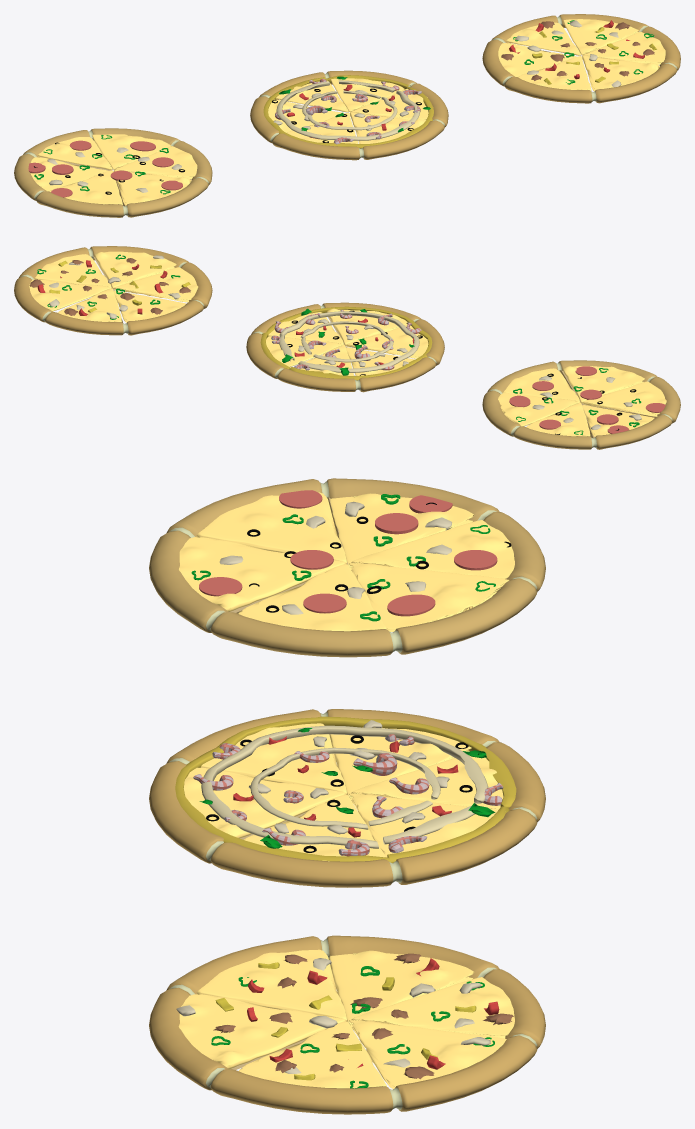
The model's file is Pizza Random Seir.fbx.
The picture shows the model from 3 angles, top to bottom: view 1: azimuth 30°, elevation 25°; view 2: azimuth 150°, elevation 25°; view 3: azimuth 270°, elevation 25°; orthographic projection. The views are drawn at different scales.
Visible parts, largest first — view 1: Cube.017, Cube.044, Cube.018; view 2: Cube.017, Cube.044, Cube.018; view 3: Cube.044, Cube.017, Cube.018.
Boxes of the visible parts, bbox=[...] form: Cube.017: bbox=[14, 128, 212, 217]; Cube.044: bbox=[250, 70, 448, 160]; Cube.018: bbox=[482, 14, 680, 103]; Cube.017: bbox=[482, 360, 680, 449]; Cube.044: bbox=[246, 302, 444, 392]; Cube.018: bbox=[14, 246, 212, 335]; Cube.044: bbox=[149, 709, 545, 887]; Cube.017: bbox=[149, 478, 545, 657]; Cube.018: bbox=[149, 935, 545, 1114].
Size of the model in its own units: 1055 by 25.75 by 283.
